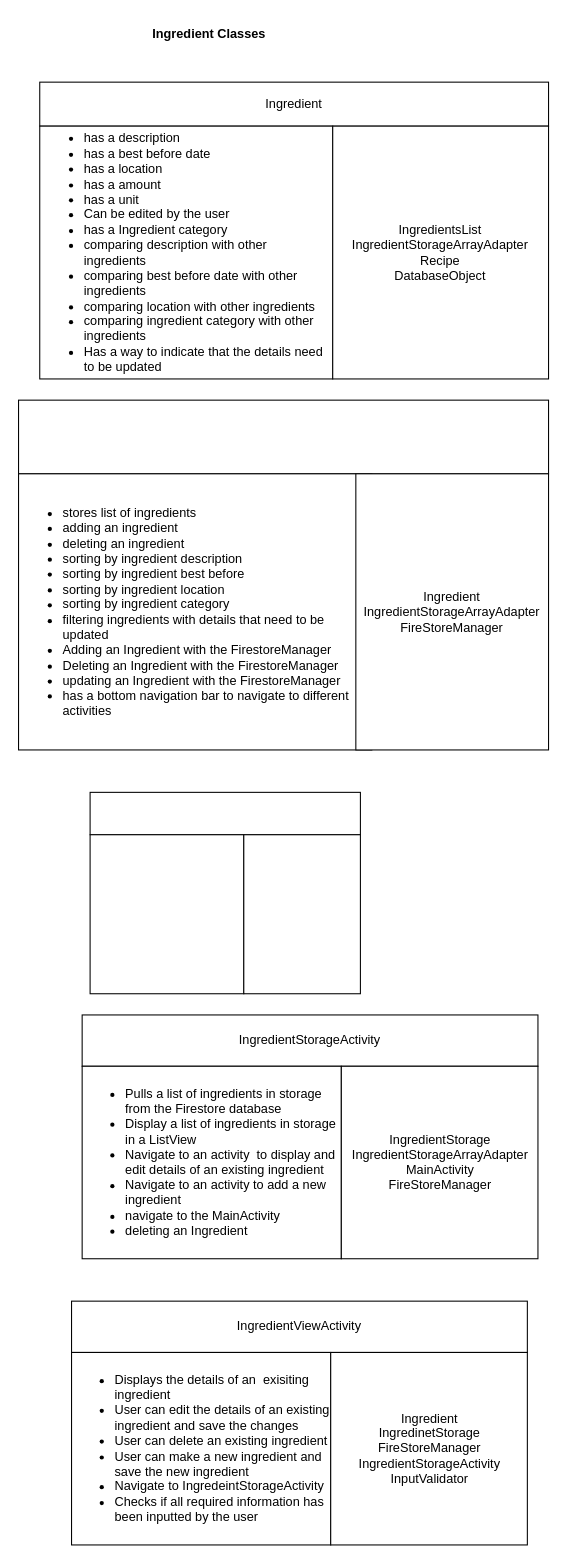
Some shapes in this 567 by 1563 pixel diagram are drawn without their labels. Here are the shapes that lost their labels. From the top down, the box of each, then its label:
(17, 399, 549, 474): IngredientStorage
(89, 791, 360, 835): IngredientStorageArrayAdapter
(89, 834, 244, 994): Display the Ingredients in the IngredientStorage in a ListView
(243, 834, 360, 994): Ingredient IngredientList ListView ArrayAdapter
